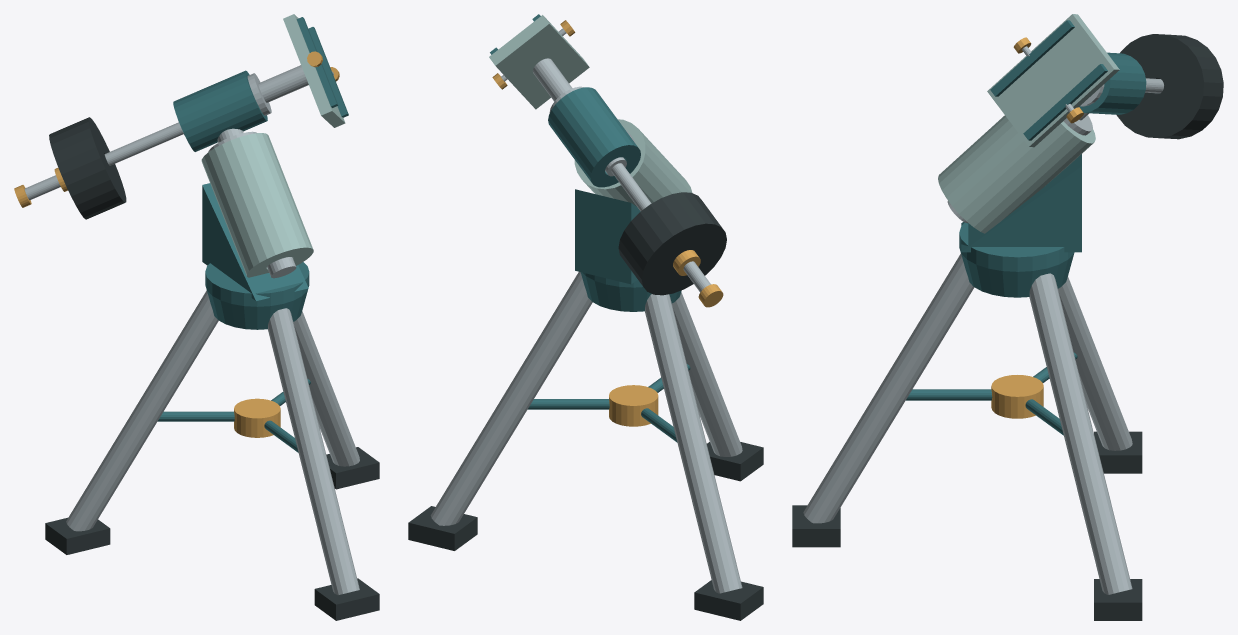
3 views of the same model, side by side, from view 1: azimuth 30°, elevation 25°; view 2: azimuth 150°, elevation 25°; view 3: azimuth 270°, elevation 25° (orthographic). The views are drawn at different scales.
Parts seen in each view (by area): view 1: Polar_BearingSleeve, Tripod_Leg_0, Tripod_Leg_2, Counterweight_PiercedDisk, Declination_BearingSleeve, Tripod_Crown, Tripod_Leg_1, Polar_LatitudeWedge, Declination_Spindle, Tripod_Foot_0, Tripod_Foot_2, Saddle_Base (+6 smaller); view 2: Tripod_Leg_2, Tripod_Leg_1, Counterweight_PiercedDisk, Declination_BearingSleeve, Polar_LatitudeWedge, Saddle_Base, Tripod_Leg_0, Polar_BearingSleeve, Declination_Spindle, Tripod_Foot_2, Tripod_Crown, Tripod_Foot_1 (+3 smaller); view 3: Tripod_Leg_1, Polar_BearingSleeve, Tripod_Leg_0, Counterweight_PiercedDisk, Saddle_Base, Polar_LatitudeWedge, Tripod_Crown, Tripod_Leg_2, Declination_BearingSleeve, Tripod_SpreaderHub, Tripod_Foot_1, Tripod_Foot_0 (+4 smaller).
Boxes of the visible parts, x1=… form: Polar_BearingSleeve: x1=201, y1=133, x2=313, y2=277; Tripod_Leg_0: x1=268, y1=308, x2=359, y2=595; Tripod_Leg_2: x1=66, y1=290, x2=218, y2=531; Counterweight_PiercedDisk: x1=49, y1=117, x2=126, y2=219; Declination_BearingSleeve: x1=173, y1=70, x2=267, y2=151; Tripod_Crown: x1=205, y1=262, x2=309, y2=329; Tripod_Leg_1: x1=293, y1=311, x2=359, y2=466; Polar_LatitudeWedge: x1=202, y1=183, x2=308, y2=300; Declination_Spindle: x1=24, y1=65, x2=308, y2=200; Tripod_Foot_0: x1=314, y1=578, x2=379, y2=620; Tripod_Foot_2: x1=45, y1=517, x2=110, y2=554; Saddle_Base: x1=283, y1=14, x2=345, y2=127; Tripod_Leg_2: x1=645, y1=294, x2=742, y2=593; Tripod_Leg_1: x1=430, y1=272, x2=592, y2=525; Counterweight_PiercedDisk: x1=618, y1=192, x2=726, y2=295; Declination_BearingSleeve: x1=548, y1=87, x2=640, y2=187; Polar_LatitudeWedge: x1=575, y1=189, x2=640, y2=284; Saddle_Base: x1=489, y1=15, x2=589, y2=109; Tripod_Leg_0: x1=672, y1=292, x2=742, y2=456; Polar_BearingSleeve: x1=574, y1=119, x2=692, y2=206; Declination_Spindle: x1=532, y1=58, x2=710, y2=292; Tripod_Foot_2: x1=694, y1=580, x2=763, y2=620; Tripod_Crown: x1=580, y1=272, x2=681, y2=311; Tripod_Foot_1: x1=408, y1=506, x2=477, y2=550; Tripod_Leg_1: x1=1029, y1=273, x2=1132, y2=594; Polar_BearingSleeve: x1=938, y1=115, x2=1095, y2=233; Tripod_Leg_0: x1=803, y1=253, x2=974, y2=523; Counterweight_PiercedDisk: x1=1116, y1=34, x2=1223, y2=139; Saddle_Base: x1=987, y1=14, x2=1119, y2=147; Polar_LatitudeWedge: x1=961, y1=154, x2=1081, y2=252; Tripod_Crown: x1=959, y1=222, x2=1074, y2=297; Tripod_Leg_2: x1=1058, y1=277, x2=1132, y2=450; Declination_BearingSleeve: x1=1079, y1=52, x2=1146, y2=114; Tripod_SpreaderHub: x1=991, y1=375, x2=1043, y2=418; Tripod_Foot_1: x1=1094, y1=579, x2=1142, y2=620; Tripod_Foot_0: x1=792, y1=505, x2=840, y2=547.
Size of the model in its own units: 1.02 by 1.52 by 1.07.
